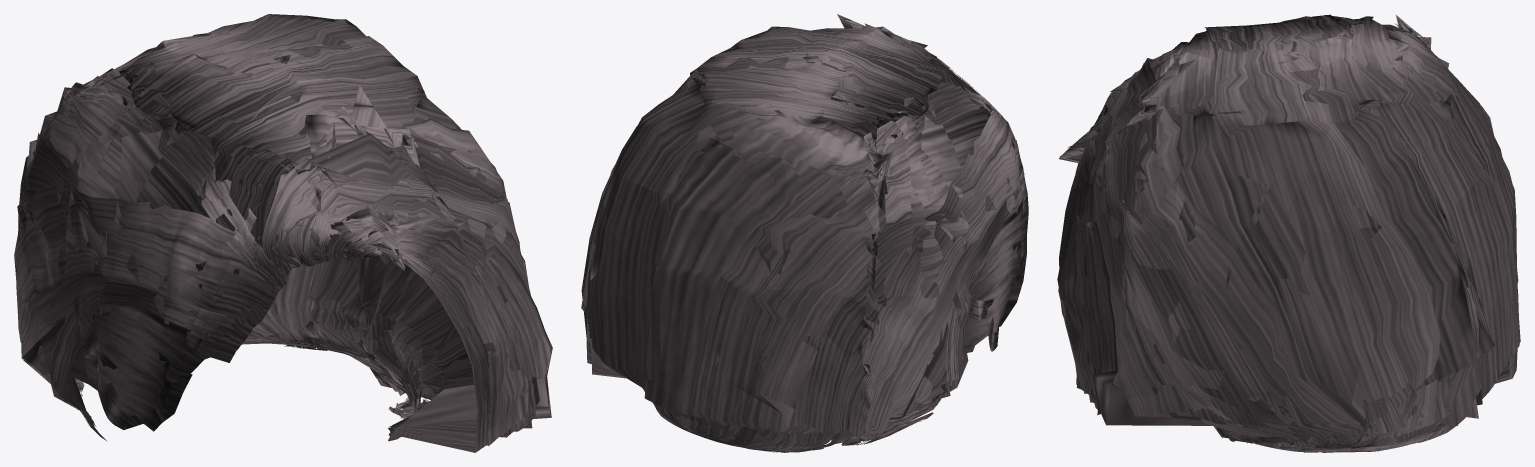
The model's file is hair_braid01.glb.
3 views of the same model, side by side, from view 1: azimuth 30°, elevation 25°; view 2: azimuth 150°, elevation 25°; view 3: azimuth 270°, elevation 25° (orthographic). The views are drawn at different scales.
Parts seen in each view (by area): view 1: hair_braid01; view 2: hair_braid01; view 3: hair_braid01.
Boxes of the visible parts, x1=… form: hair_braid01: x1=14, y1=14, x2=552, y2=452; hair_braid01: x1=581, y1=14, x2=1028, y2=452; hair_braid01: x1=1057, y1=14, x2=1520, y2=452.
Size of the model in its own units: 0.1737 by 0.1613 by 0.196.
1 material, 1 textured.
